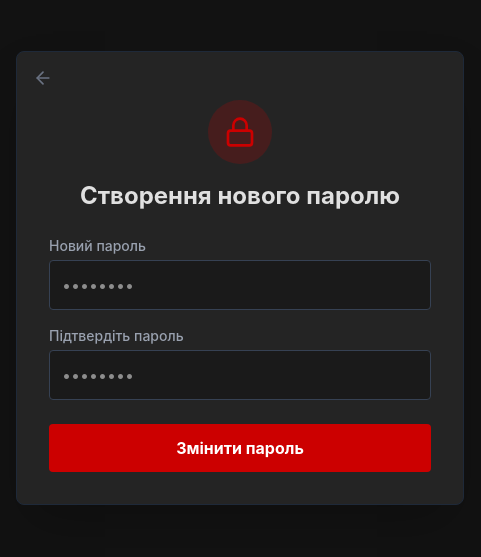
Test: Frontend auth forms › reset password shows error when passwords do not match
The image size is (481, 557).
Type "123456" into the password field with placeholder "••••••••" below "Новий пароль".
click(240, 285); type("123456")  # box [49,260,431,310]
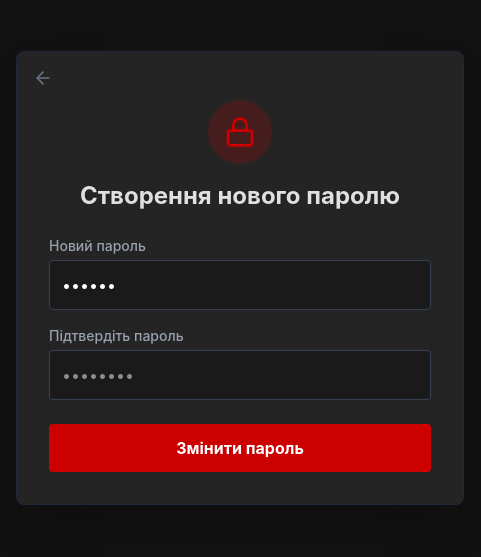
Type "654321" into the password field with placeholder "••••••••".
click(240, 375); type("654321")  # box [49,350,431,400]
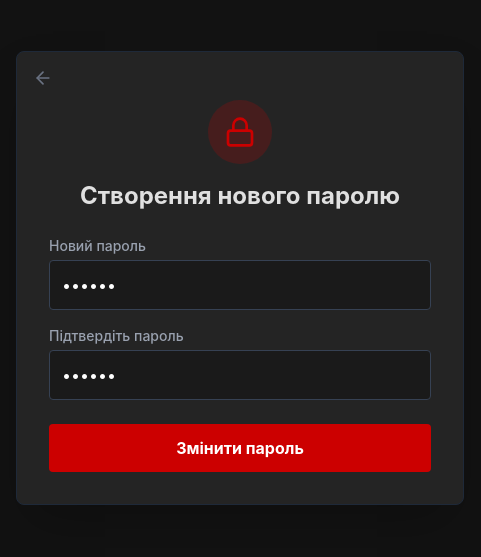
Click the button "Змінити пароль".
click(240, 448)  # box [49,424,431,472]
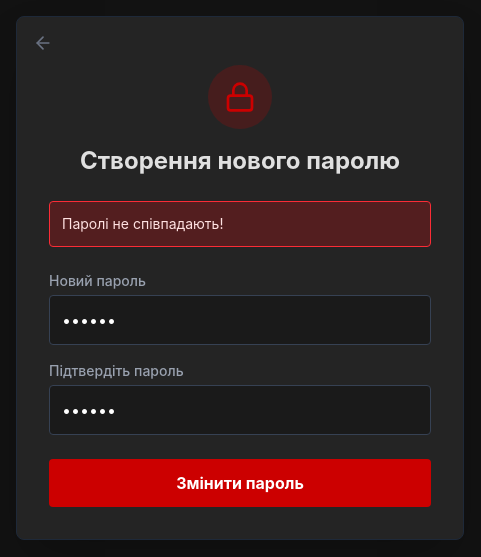
Result: the text "Паролі не співпадають!" is shown at [49,201,431,247]
